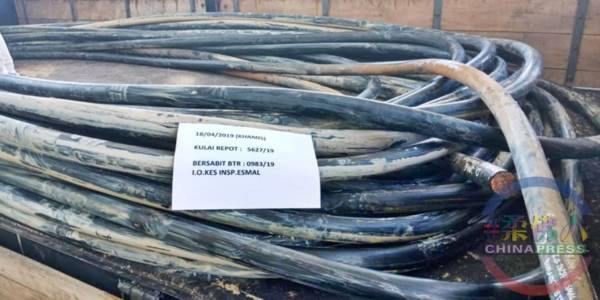more_tube: (343, 21, 564, 249)
